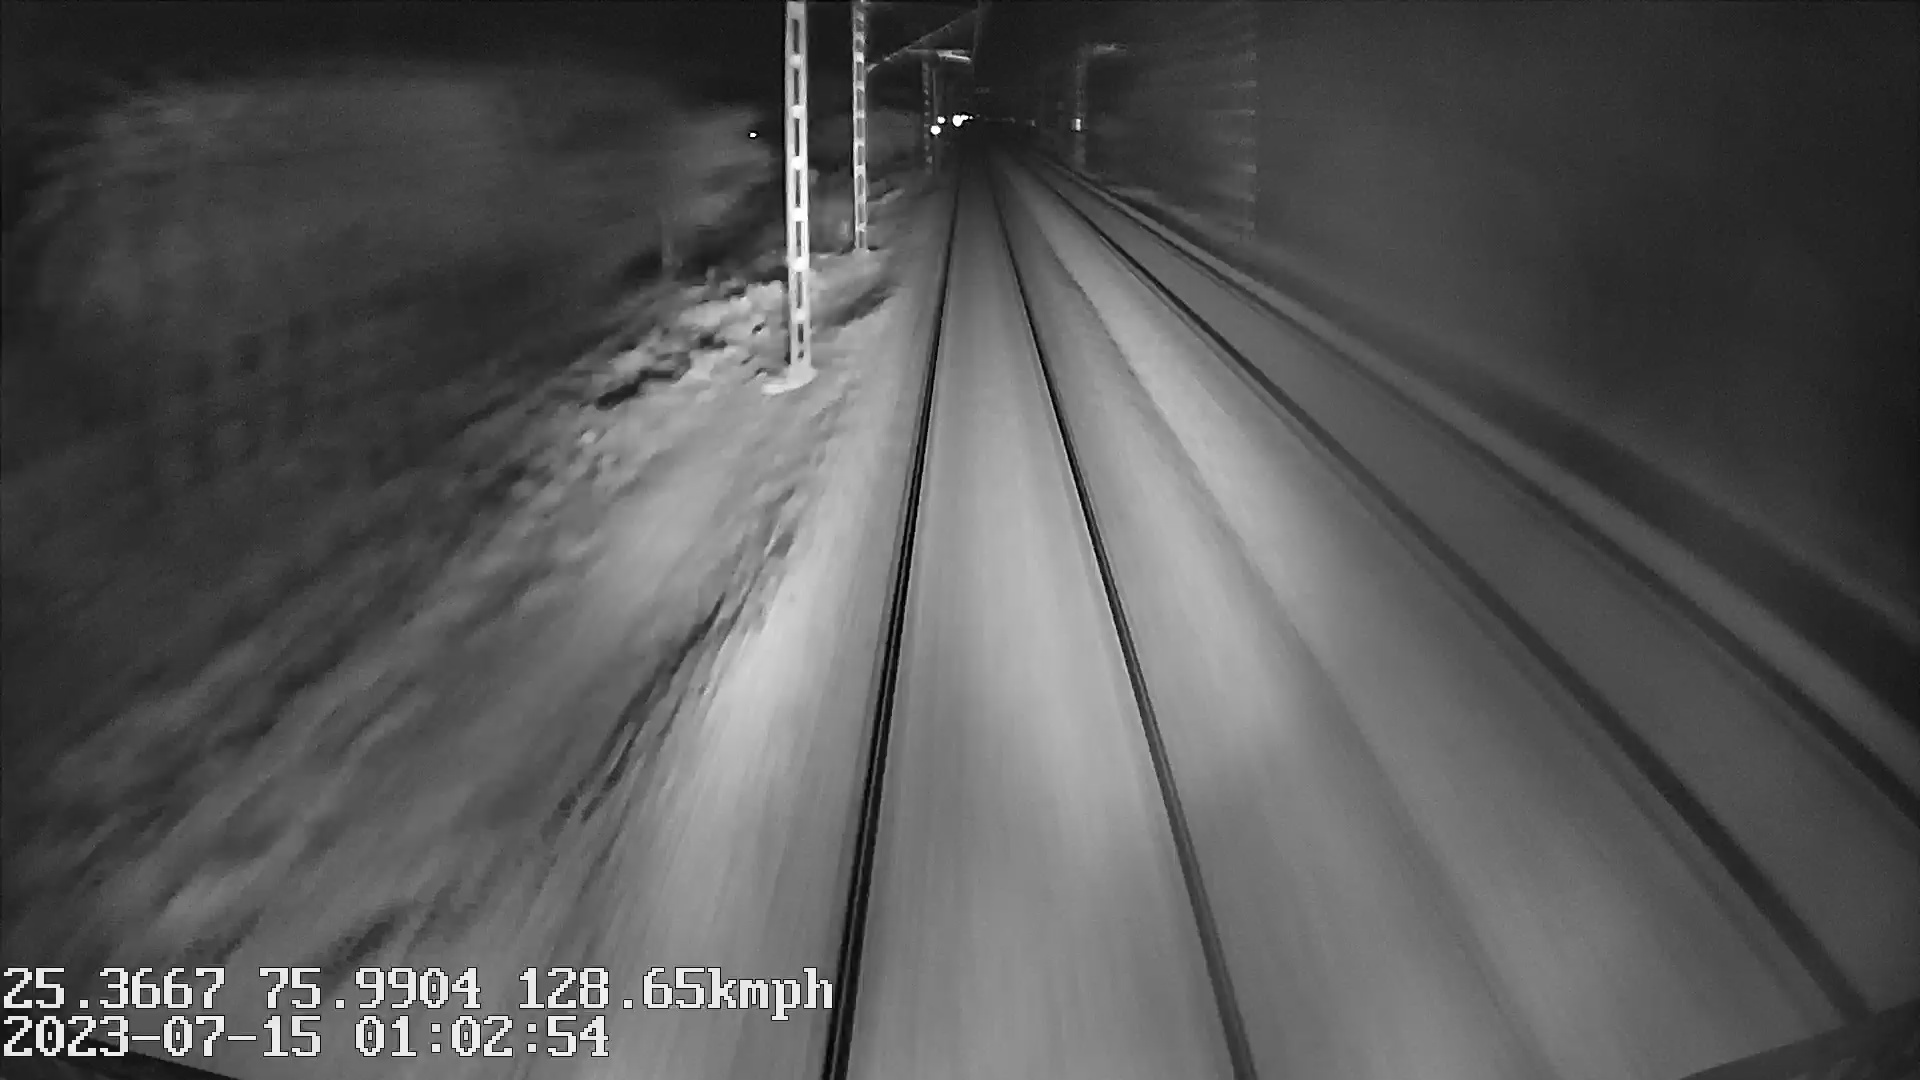track1: (843, 156, 1232, 1033)
track2: (1065, 191, 1902, 959)
